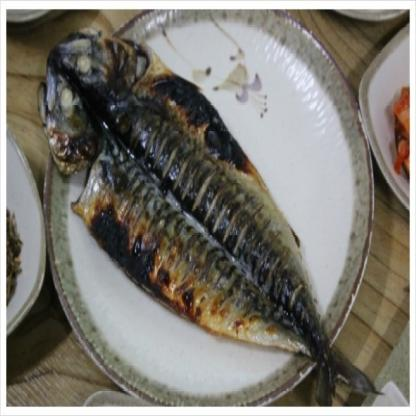Peixe: (29, 17, 379, 404)
